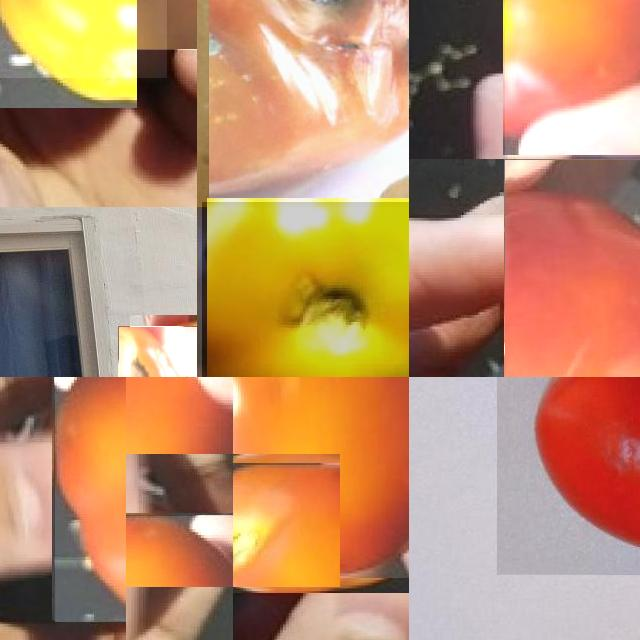0: (497, 377, 640, 575)
Fresh Tomato: (505, 0, 640, 157), (0, 0, 167, 78)
Rotten Tomato: (208, 0, 409, 207), (202, 202, 409, 377), (504, 159, 640, 377), (118, 326, 197, 377)
object: (0, 377, 233, 640)
